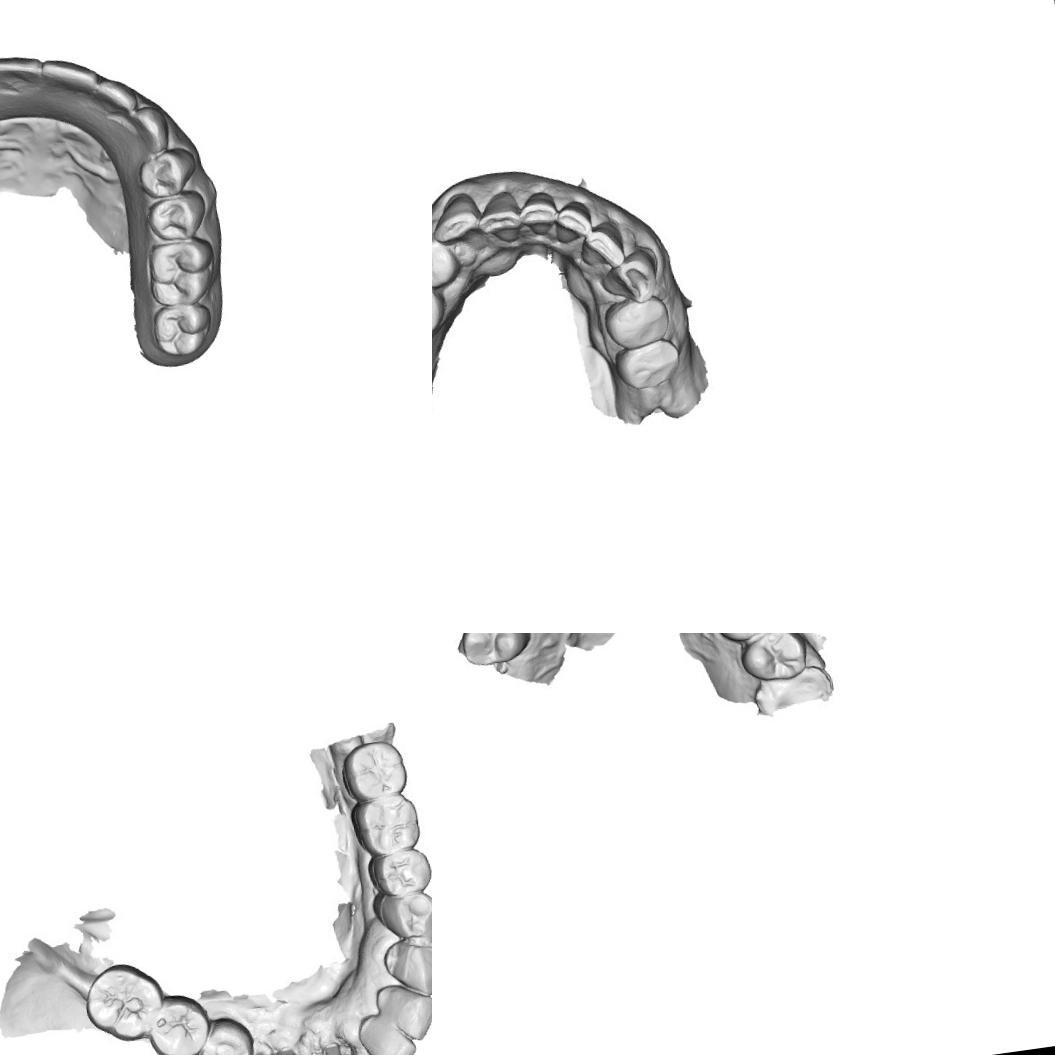abutment: (319, 1034, 353, 1055), (272, 1037, 307, 1055)
canine: (379, 931, 432, 1003), (600, 248, 661, 308), (122, 102, 175, 158), (432, 192, 478, 245)
incisor: (375, 979, 432, 1047), (38, 49, 102, 103), (355, 1008, 419, 1055), (90, 71, 144, 124), (474, 190, 524, 244), (576, 224, 625, 270), (0, 46, 47, 93), (516, 190, 556, 236), (555, 203, 594, 242)
molar: (80, 956, 170, 1047), (144, 232, 223, 310), (334, 736, 412, 804), (348, 788, 422, 858), (143, 990, 213, 1055), (148, 298, 216, 363)
premolar: (144, 188, 215, 246), (364, 842, 432, 901), (134, 144, 200, 204), (602, 294, 670, 352), (615, 337, 683, 394), (735, 633, 809, 685), (373, 886, 432, 951), (453, 633, 538, 670), (194, 1014, 258, 1055), (432, 238, 453, 286), (432, 271, 444, 334)
